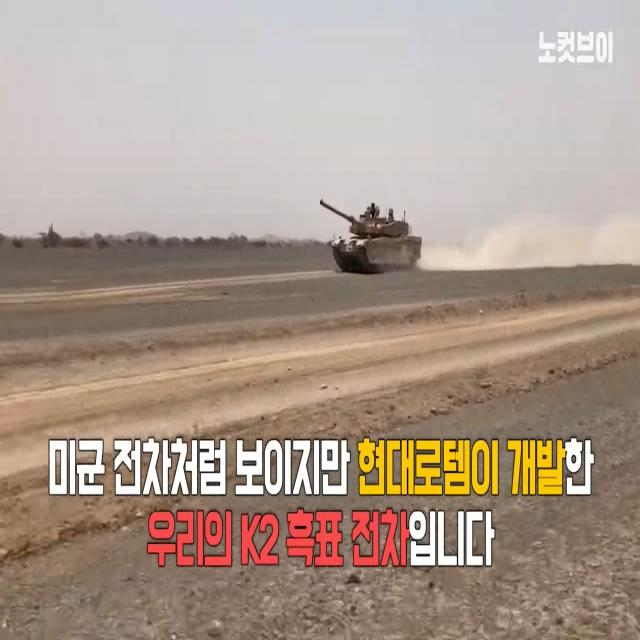korea tank: (320, 197, 423, 272)
